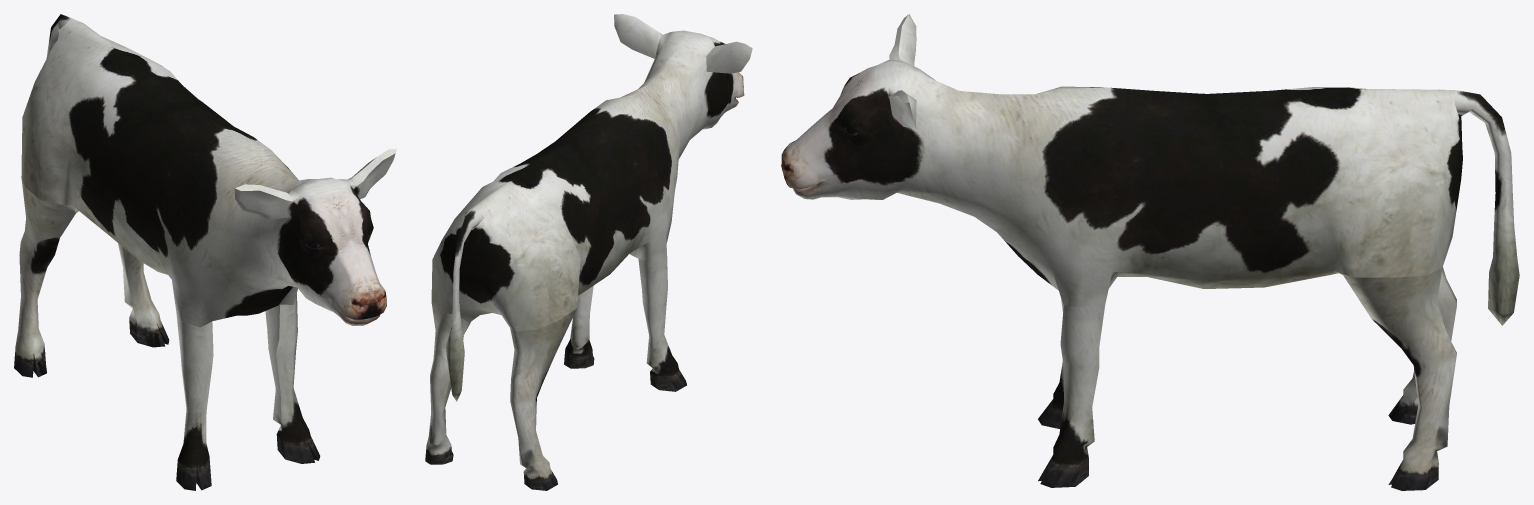
File: Cow.fbx
3 views of the same model, side by side, from view 1: azimuth 30°, elevation 25°; view 2: azimuth 150°, elevation 25°; view 3: azimuth 270°, elevation 25° (orthographic). The views are drawn at different scales.
Visible parts, largest first — view 1: Cow; view 2: Cow; view 3: Cow.
Boxes of the visible parts, left/top/right/bottom form: Cow: left=14, top=14, right=396, bottom=490; Cow: left=425, top=14, right=752, bottom=490; Cow: left=781, top=14, right=1519, bottom=490.
Size of the model in its own units: 2.23 by 4.63 by 7.84.
